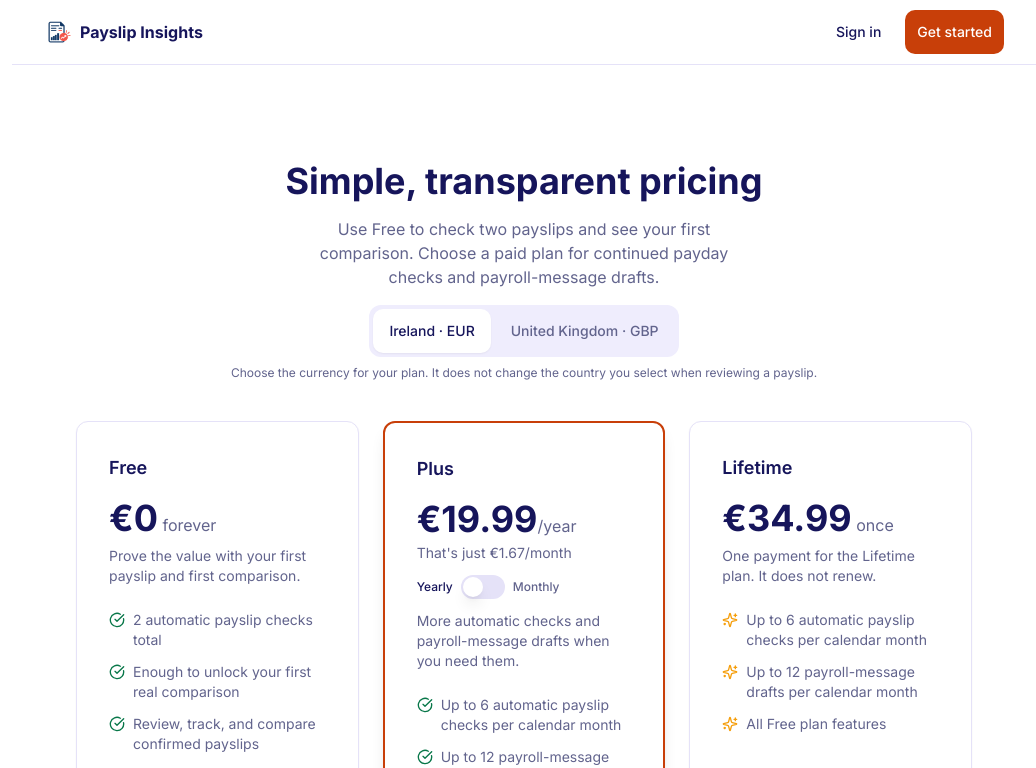
Test: Pricing › makes the currency choice understandable to assistive technology
Click the button with aria-label "Show prices in pounds sterling".
click(585, 331)  # box [495, 309, 675, 353]
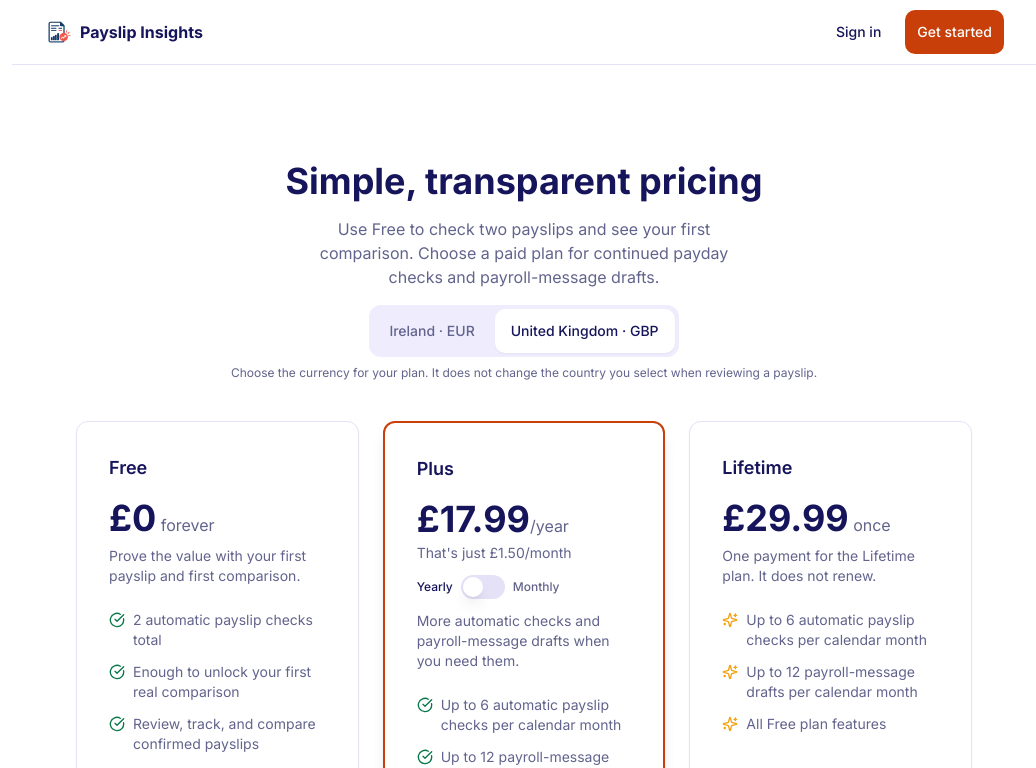
Now the text "£17.99" is shown, box [417, 497, 530, 541]
Click the button with aria-label "Show prices in euro".
click(432, 331)  # box [373, 309, 491, 353]
(page scrolled)
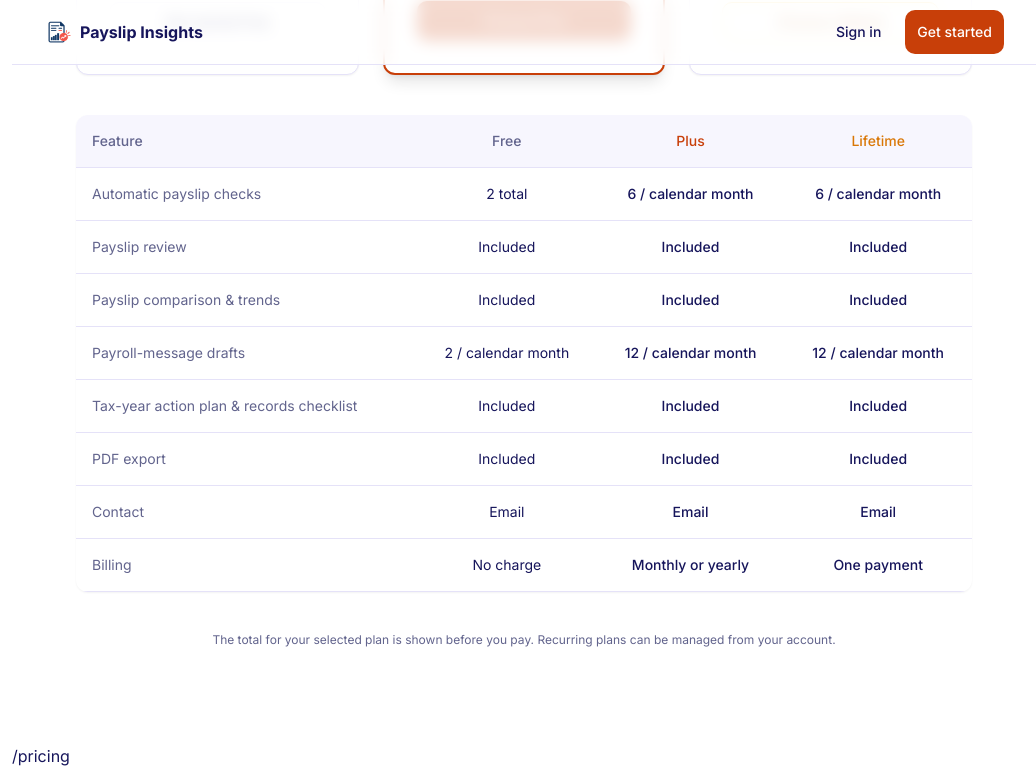
Now the text with test id "location" reads "/pricing", box [12, 746, 70, 766]
